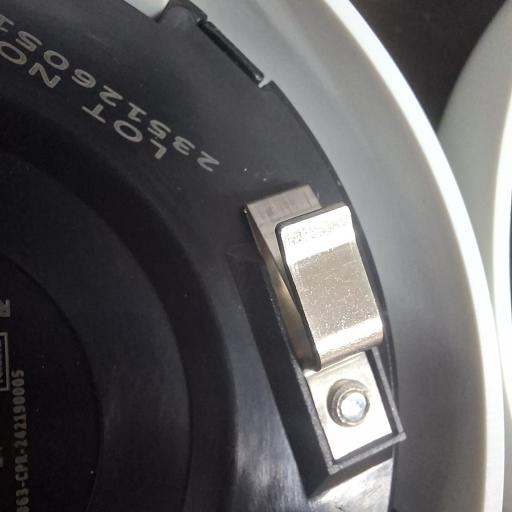yayli: (254, 190, 403, 486)
